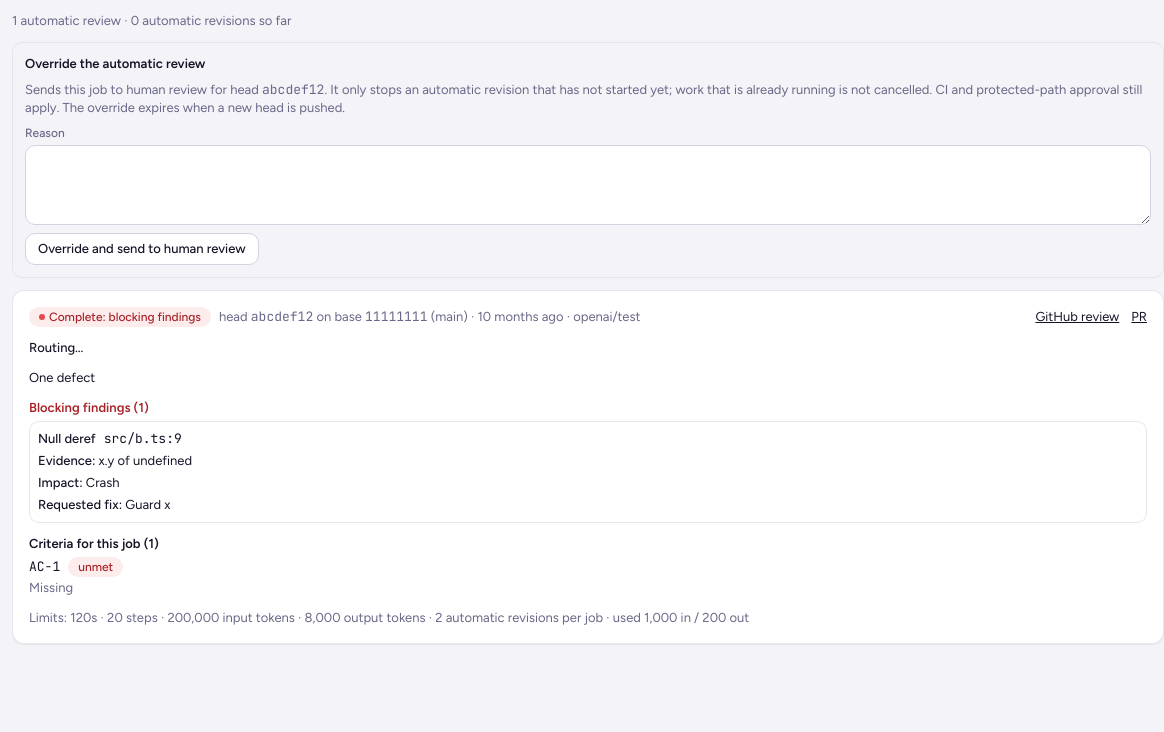
override › explains its scope and requires a reason
This screenshot has width=1164, height=732.
Expected: the text "expires when a new head is pushed" is shown, [25, 82, 1142, 115]
Click the button "Override and send to human review": (142, 249) [25, 233, 258, 265]
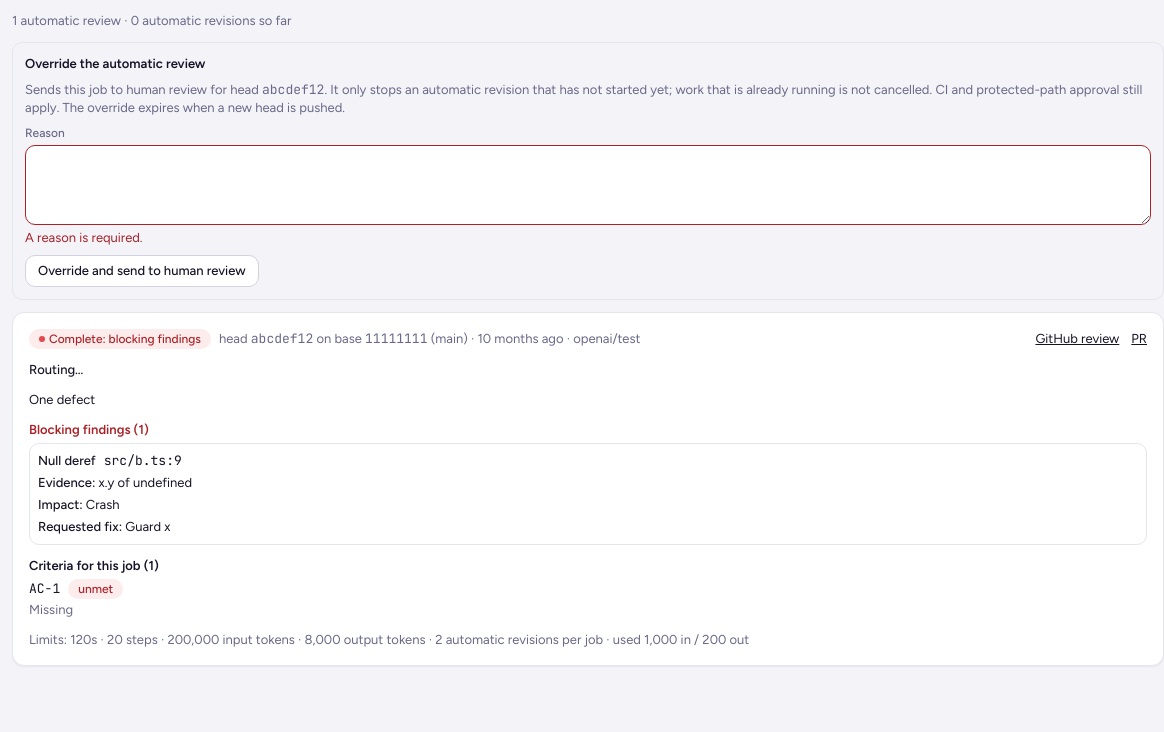
Result: the text "A reason is required." is shown at [25, 230, 143, 245]
